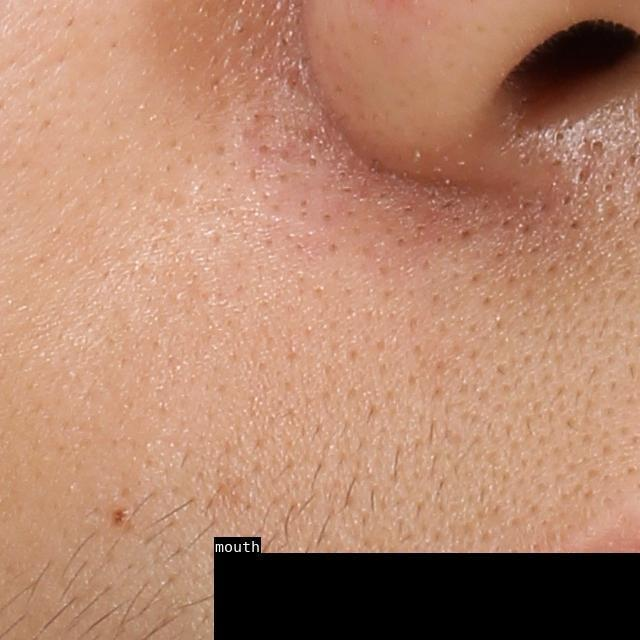comedo: (584, 131, 608, 156)
nevus: (111, 498, 135, 529)
